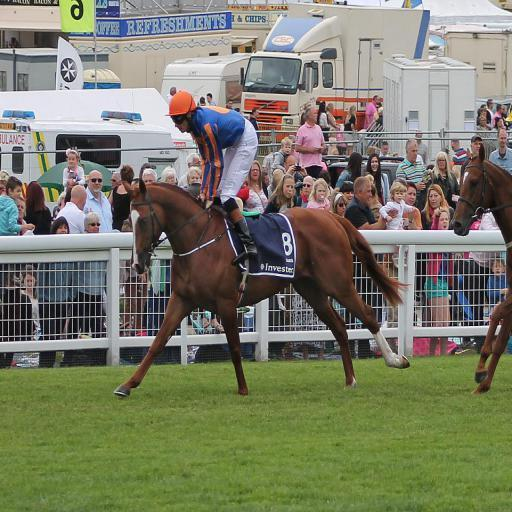horse: (112, 174, 412, 400), (450, 140, 512, 395)
